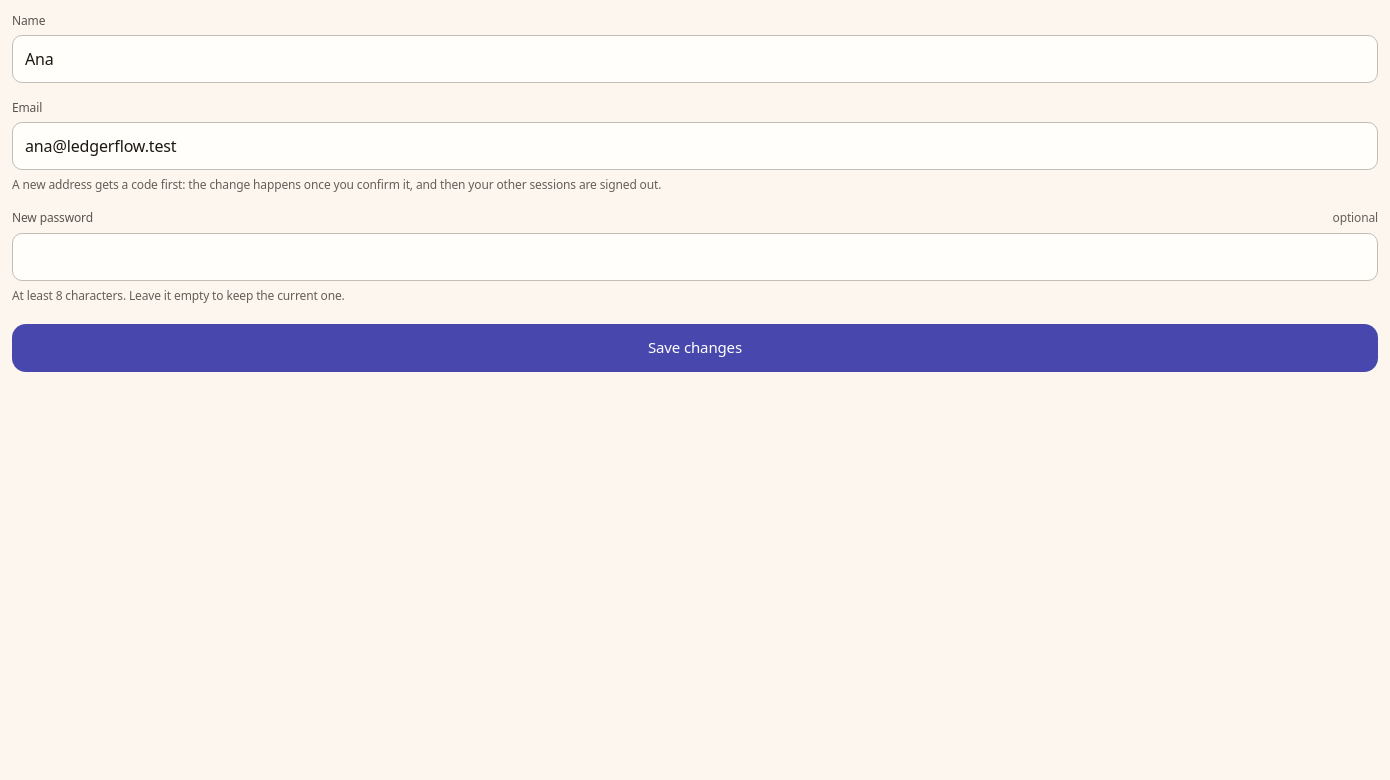
ProfileView › keeps a saved password when the address is refused after it, and says the email did not change
This screenshot has width=1390, height=780.
Type "Str0ngPass!" into the password field labelled "New password optional" at (695, 257), box [12,233,1378,281]
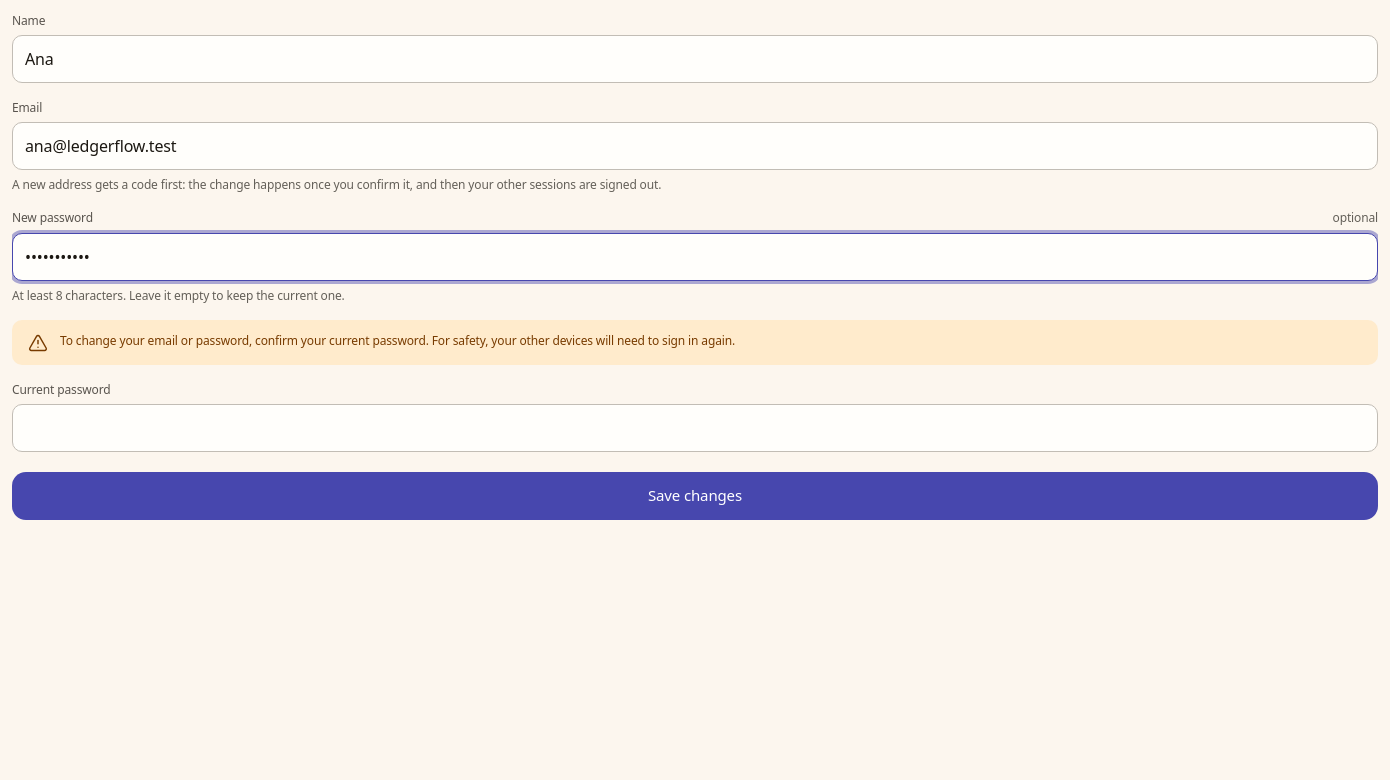
Replace the text in the field labelled "Email" with "bounced@ledgerflow.test" at (695, 146), box [12,122,1378,170]
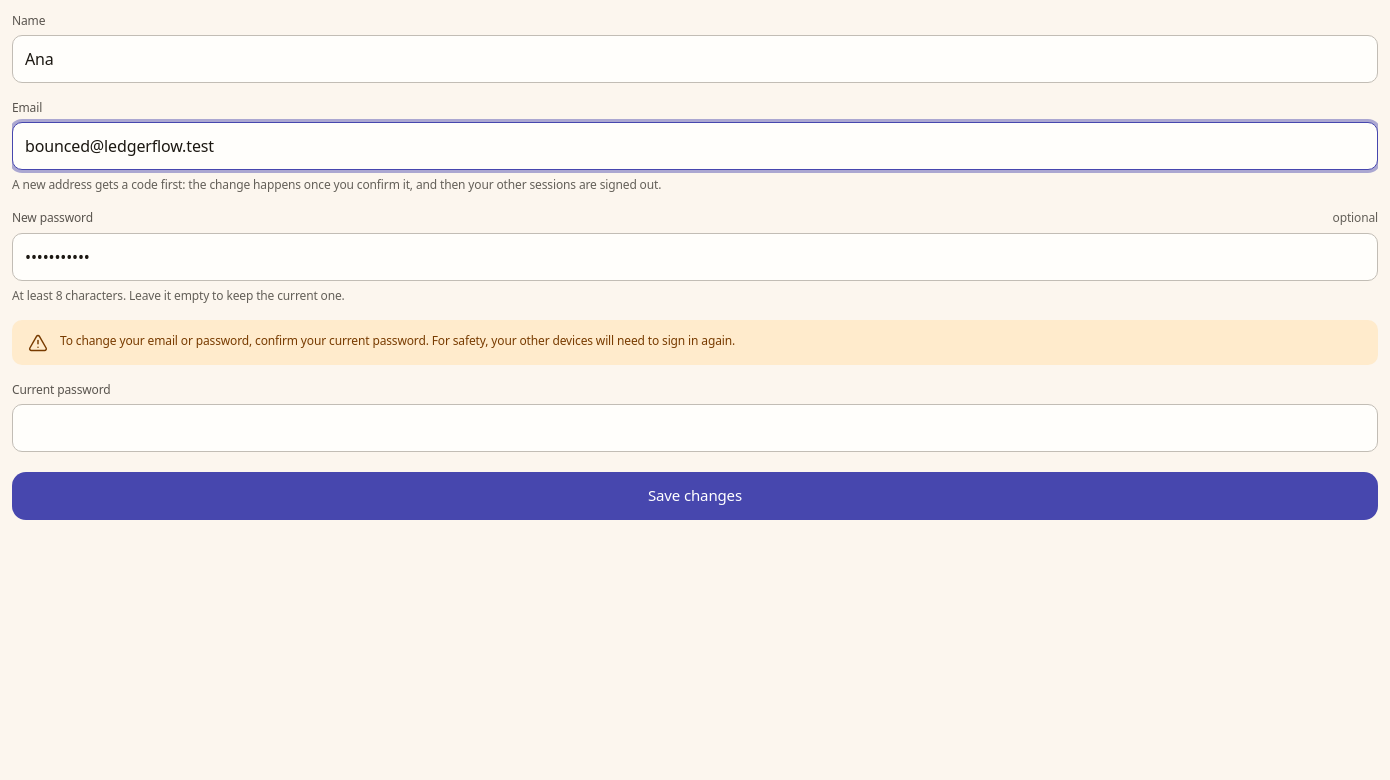
Type "OldPass!2026" into the password field labelled "Current password" at (695, 428), box [12,404,1378,452]
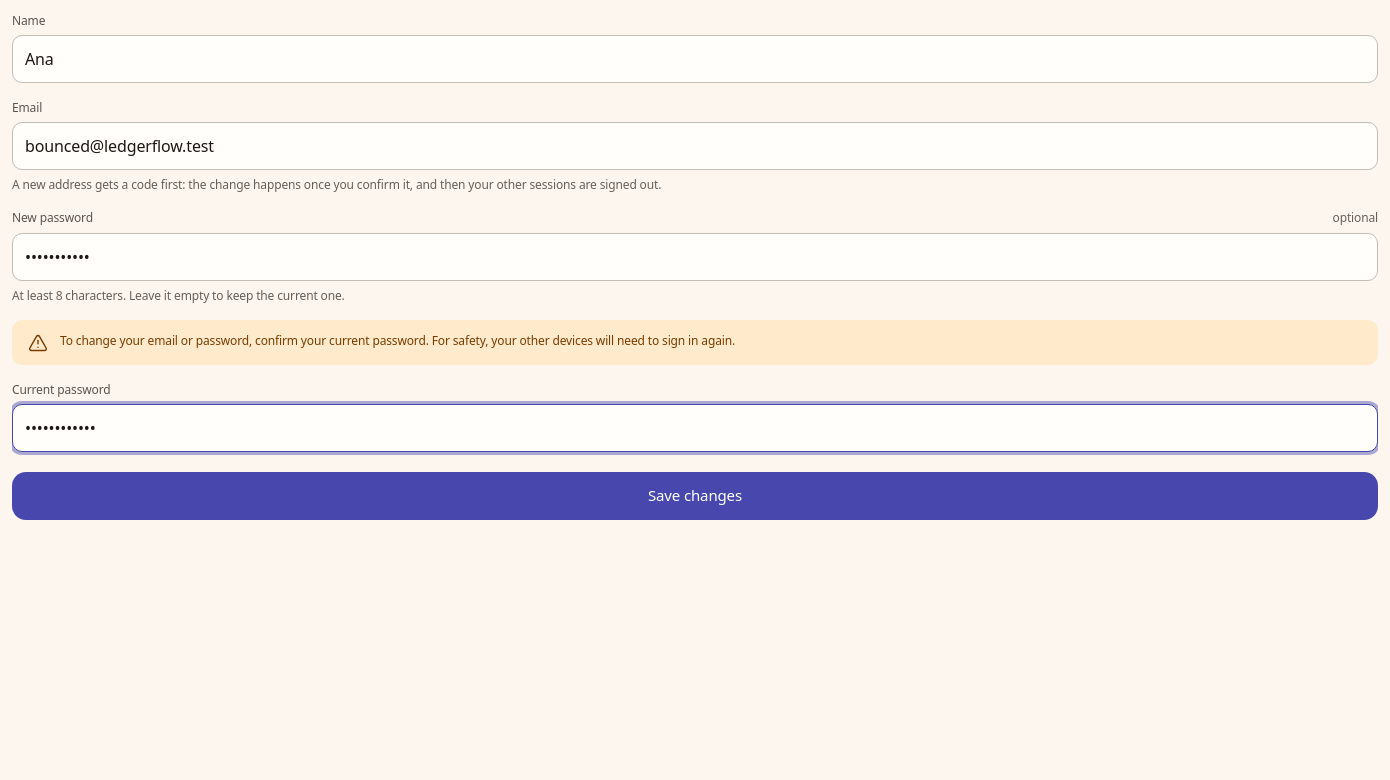
Click the button named "Save changes" at (695, 496), box [12,472,1378,520]
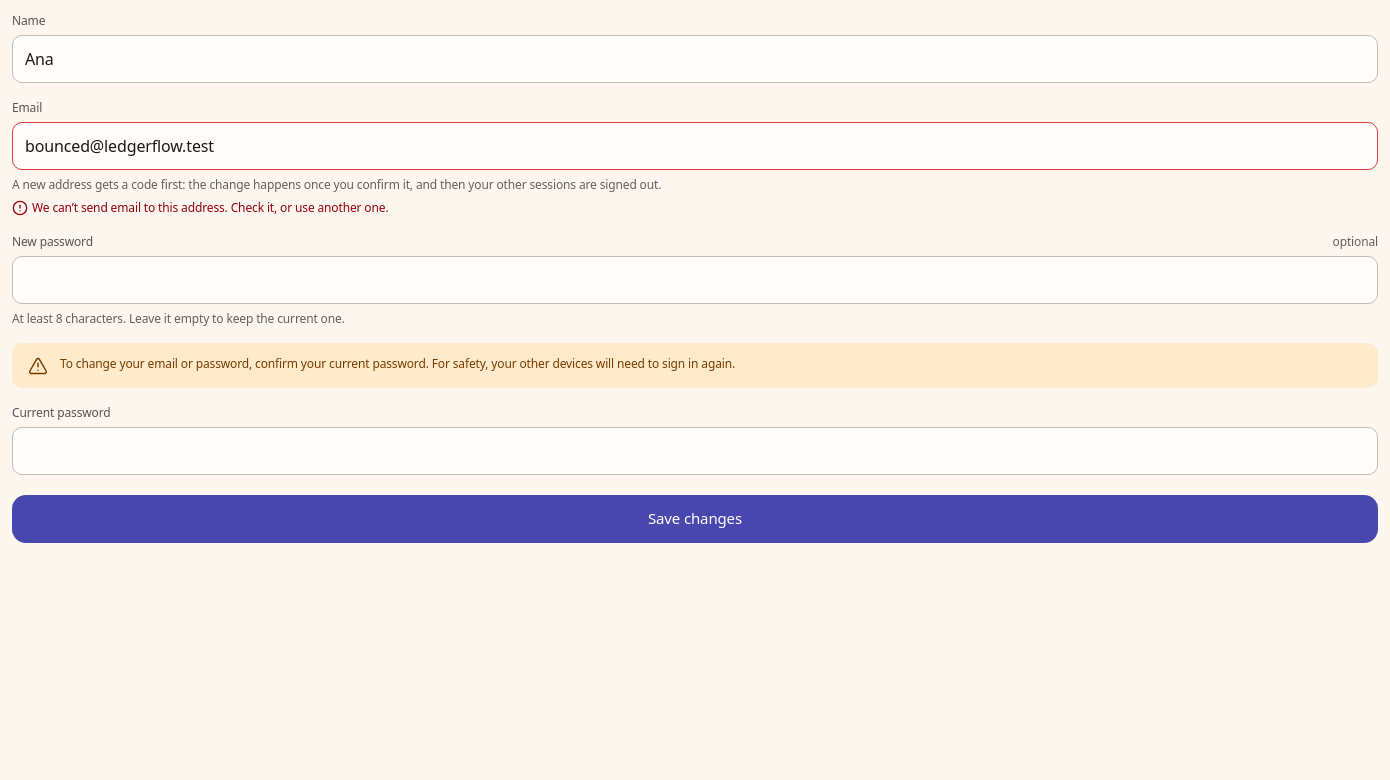
Now the text "We can’t send email to this address. Check it, or use another one." is shown, box [12,199,388,216]
Now the password field labelled "New password optional" is empty, box [12,256,1378,304]
Now the password field labelled "Current password" is empty, box [12,427,1378,475]
